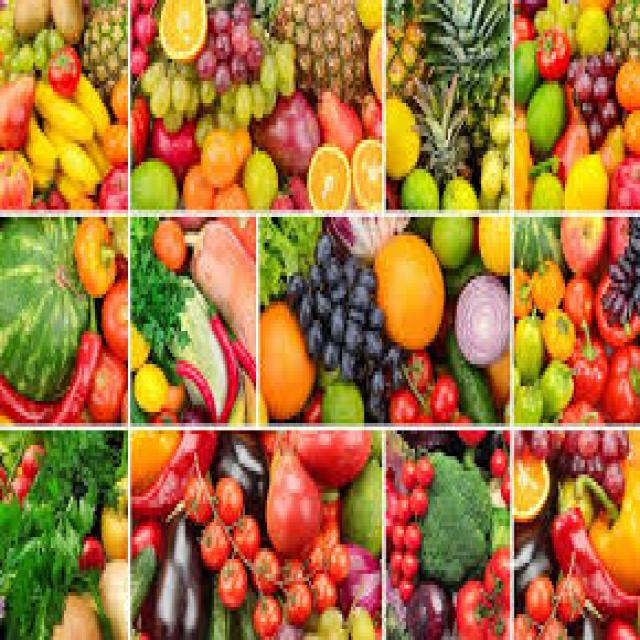organic waste: (0, 427, 119, 636), (0, 209, 88, 397), (0, 294, 99, 419), (549, 482, 638, 618), (572, 430, 638, 592), (417, 445, 492, 585), (159, 272, 227, 423), (183, 217, 254, 360), (262, 0, 364, 99), (139, 489, 207, 636), (128, 213, 194, 349), (130, 427, 221, 522), (368, 228, 442, 342), (263, 423, 320, 559), (247, 88, 318, 177), (258, 298, 311, 416), (258, 213, 320, 302), (450, 269, 508, 364), (444, 316, 496, 419), (207, 430, 267, 515), (287, 430, 368, 490), (79, 0, 126, 96), (40, 118, 99, 191), (322, 213, 411, 261), (33, 70, 93, 140), (600, 217, 638, 324), (340, 449, 377, 555), (550, 77, 587, 180), (333, 537, 380, 618), (205, 302, 236, 419), (130, 430, 186, 493), (512, 519, 552, 607), (313, 74, 362, 144), (594, 265, 638, 342), (525, 74, 567, 154), (150, 110, 199, 176), (73, 217, 115, 294), (567, 316, 605, 401), (163, 356, 214, 416), (404, 574, 452, 636), (84, 346, 126, 416), (304, 140, 348, 206), (0, 66, 35, 147), (128, 541, 159, 629), (514, 442, 548, 522), (602, 342, 638, 416), (157, 0, 205, 55), (558, 217, 605, 272), (514, 217, 561, 269), (130, 154, 177, 206), (99, 268, 126, 357), (428, 214, 472, 268), (240, 140, 276, 206), (562, 147, 604, 202), (51, 588, 99, 636), (71, 74, 108, 136), (99, 475, 126, 559), (95, 556, 123, 636), (530, 246, 565, 309), (348, 132, 379, 202), (454, 574, 488, 636), (538, 356, 572, 416), (201, 125, 238, 180), (514, 309, 543, 379), (46, 40, 80, 96), (562, 272, 594, 331), (538, 305, 574, 357), (320, 375, 362, 419), (212, 214, 254, 258), (132, 357, 168, 408), (607, 0, 638, 59), (22, 110, 57, 162), (477, 214, 508, 272), (571, 0, 606, 51), (205, 566, 230, 636), (0, 147, 29, 206), (152, 217, 183, 272), (212, 471, 243, 526), (483, 541, 508, 607), (514, 103, 530, 202), (197, 518, 230, 566), (607, 151, 638, 202), (534, 26, 569, 70), (250, 541, 280, 592), (362, 364, 386, 427), (225, 331, 254, 383), (214, 556, 245, 604), (55, 169, 95, 206), (104, 217, 126, 283), (395, 427, 452, 452), (11, 0, 49, 37), (611, 55, 638, 107), (428, 368, 455, 419), (554, 574, 585, 618), (514, 37, 536, 99), (527, 165, 563, 202), (48, 0, 81, 40), (183, 474, 212, 518), (355, 85, 380, 136), (598, 121, 622, 173), (181, 162, 212, 202), (283, 581, 311, 625), (130, 515, 163, 552), (486, 346, 508, 401), (523, 574, 550, 618), (366, 22, 382, 96), (130, 88, 146, 162), (384, 382, 415, 420), (514, 379, 543, 419), (97, 162, 126, 202), (605, 213, 629, 261), (252, 592, 278, 636), (556, 394, 600, 419), (101, 118, 126, 162), (307, 313, 331, 357), (128, 320, 150, 368), (309, 563, 333, 607), (404, 346, 430, 386), (488, 504, 508, 555), (386, 585, 406, 636), (210, 180, 249, 206), (229, 596, 254, 636), (148, 70, 170, 114), (232, 515, 258, 552), (472, 426, 501, 459), (444, 254, 476, 283), (132, 7, 157, 44), (170, 59, 188, 110), (84, 132, 108, 170), (142, 55, 164, 96), (598, 614, 638, 636), (318, 482, 340, 522), (298, 537, 320, 577), (346, 604, 373, 636), (238, 364, 254, 416), (622, 103, 638, 154), (316, 522, 338, 559), (543, 607, 571, 636), (280, 556, 305, 588), (192, 103, 212, 143), (108, 70, 126, 114), (282, 173, 309, 202), (316, 603, 342, 633), (412, 452, 432, 490), (384, 544, 404, 582), (353, 0, 379, 29), (600, 459, 620, 496), (18, 441, 42, 471), (130, 375, 146, 419), (75, 533, 102, 559), (9, 471, 33, 500), (572, 66, 592, 100), (329, 298, 346, 338), (313, 357, 340, 382), (161, 371, 183, 401), (234, 81, 249, 125), (159, 99, 181, 129), (249, 77, 265, 118), (258, 48, 276, 84), (165, 217, 208, 232), (29, 165, 57, 188), (514, 265, 530, 305), (512, 8, 532, 40), (386, 346, 402, 386), (227, 379, 243, 419), (598, 430, 618, 460), (340, 316, 360, 346), (408, 213, 431, 239), (406, 482, 424, 515), (311, 232, 329, 265), (130, 41, 148, 74), (413, 382, 430, 416), (230, 18, 247, 52), (208, 7, 230, 33), (340, 247, 357, 280), (230, 125, 247, 158), (322, 254, 344, 279), (338, 346, 360, 371), (192, 48, 214, 73), (488, 604, 505, 636), (386, 430, 404, 460), (300, 386, 318, 416), (366, 302, 382, 334), (488, 445, 505, 475), (589, 74, 609, 99), (402, 515, 419, 544), (274, 48, 291, 77), (355, 257, 371, 287), (148, 401, 174, 419), (305, 257, 320, 287), (44, 184, 69, 202), (587, 110, 600, 144), (391, 518, 404, 552), (283, 272, 300, 298), (210, 55, 227, 81), (528, 430, 548, 452), (576, 430, 596, 452), (498, 460, 508, 504), (397, 552, 417, 574), (316, 291, 331, 320), (320, 331, 335, 360), (574, 0, 613, 11), (298, 287, 309, 324), (602, 96, 616, 125), (567, 52, 583, 77), (15, 41, 31, 66), (514, 614, 532, 636), (400, 456, 412, 489), (278, 33, 296, 55), (227, 55, 245, 77), (457, 427, 485, 441), (369, 338, 386, 361), (210, 29, 227, 52), (212, 99, 227, 125), (115, 434, 124, 475), (186, 77, 198, 107), (587, 456, 603, 478), (587, 48, 603, 70), (368, 604, 379, 636), (248, 37, 260, 66), (333, 279, 351, 298), (351, 287, 366, 309), (349, 298, 364, 320), (368, 430, 379, 460), (229, 0, 247, 18), (262, 88, 274, 114), (602, 48, 616, 70), (272, 188, 294, 202), (569, 456, 585, 475), (578, 99, 594, 118), (201, 78, 214, 100), (33, 48, 46, 70), (0, 0, 11, 26), (552, 452, 567, 471), (0, 47, 15, 66), (329, 622, 349, 636), (117, 386, 126, 416), (49, 26, 64, 44), (521, 0, 545, 11), (398, 574, 410, 596), (218, 81, 230, 103), (532, 7, 549, 22), (31, 22, 44, 41), (512, 430, 523, 452), (9, 55, 20, 77), (274, 622, 291, 636), (618, 430, 627, 456), (550, 430, 562, 449), (258, 394, 267, 419), (305, 607, 320, 622), (248, 15, 260, 33), (29, 188, 44, 202), (565, 430, 576, 449), (391, 489, 415, 497), (0, 26, 13, 40), (298, 626, 316, 636), (450, 408, 466, 419), (0, 464, 7, 489), (562, 0, 571, 18), (384, 464, 391, 486), (501, 398, 508, 420), (137, 0, 159, 7), (278, 81, 291, 92), (386, 519, 393, 537), (382, 493, 391, 507), (130, 629, 146, 636), (552, 11, 562, 22), (130, 0, 137, 15), (512, 0, 521, 7), (545, 0, 558, 4), (501, 431, 505, 442)
